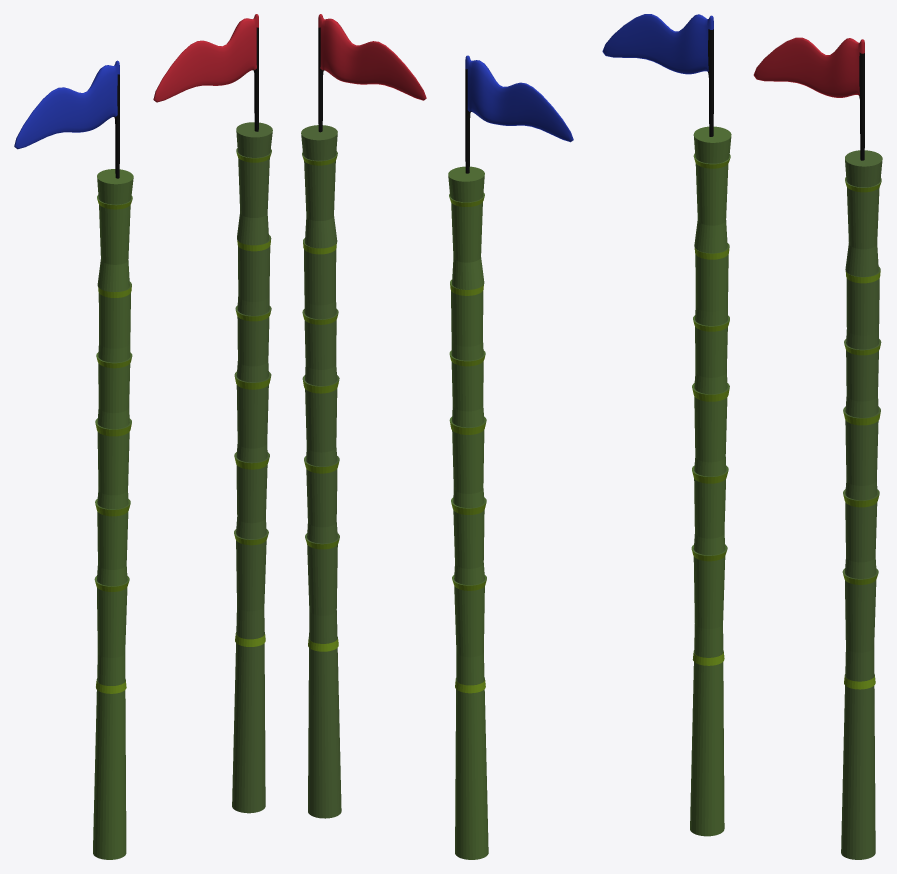
The model's file is palosebo.glb.
3 views of the same model, side by side, from view 1: azimuth 30°, elevation 25°; view 2: azimuth 150°, elevation 25°; view 3: azimuth 330°, elevation 25° (orthographic). The views are drawn at different scales.
Parts seen in each view (by area): view 1: bamboo blue, bamboo red; view 2: bamboo blue, bamboo red; view 3: bamboo red, bamboo blue.
Part boxes in pixels (x1=…): bamboo blue: x1=14, y1=60, x2=133, y2=859; bamboo red: x1=153, y1=14, x2=272, y2=813; bamboo blue: x1=448, y1=55, x2=573, y2=859; bamboo red: x1=301, y1=14, x2=426, y2=818; bamboo red: x1=753, y1=37, x2=882, y2=859; bamboo blue: x1=602, y1=14, x2=731, y2=836.
Size of the model in its own units: 5.89 by 17.15 by 0.8597.
